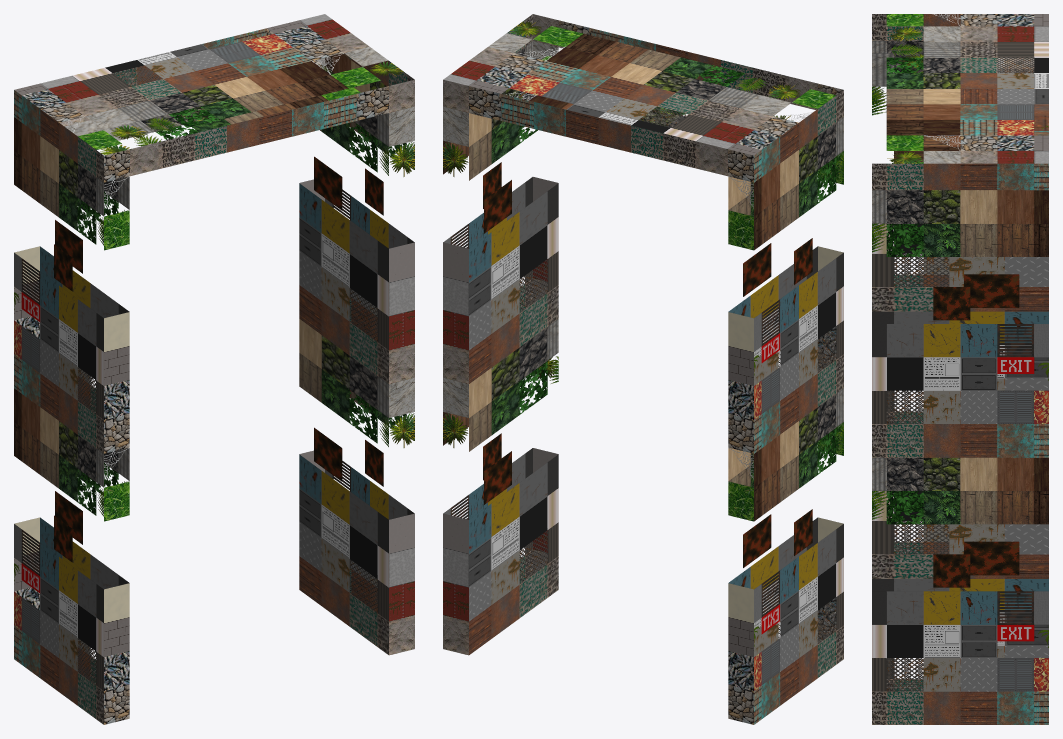
File: OfficeDoorway.fbx
The picture shows the model from 3 angles, left to right: view 1: azimuth 30°, elevation 25°; view 2: azimuth 150°, elevation 25°; view 3: azimuth 270°, elevation 25°; orthographic projection.
Parts seen in each view (by area): view 1: DoorFrame.001; view 2: DoorFrame.001; view 3: DoorFrame.001.
Boxes of the visible parts, x1,y1,x2,y2 form: DoorFrame.001: [14, 14, 414, 724]; DoorFrame.001: [443, 14, 843, 724]; DoorFrame.001: [872, 14, 1048, 724].
Size of the model in its own units: 1.2 by 2.1 by 0.6.
